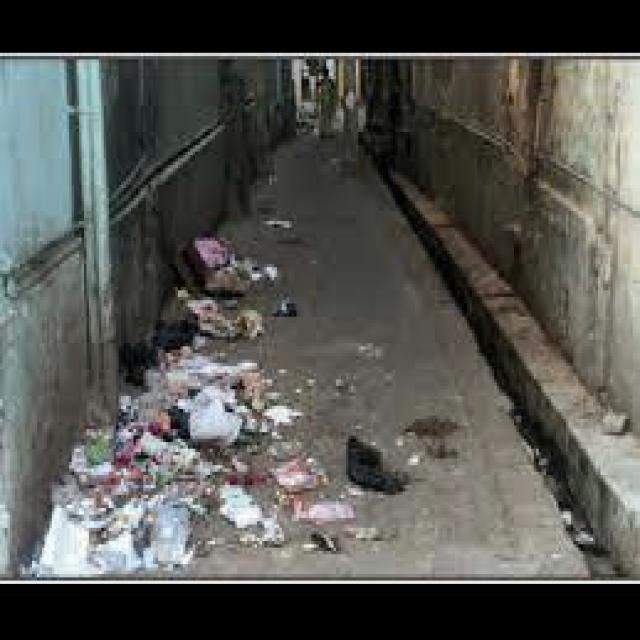garbage: (67, 426, 190, 578), (129, 336, 247, 468), (203, 468, 358, 541), (178, 248, 254, 334)
